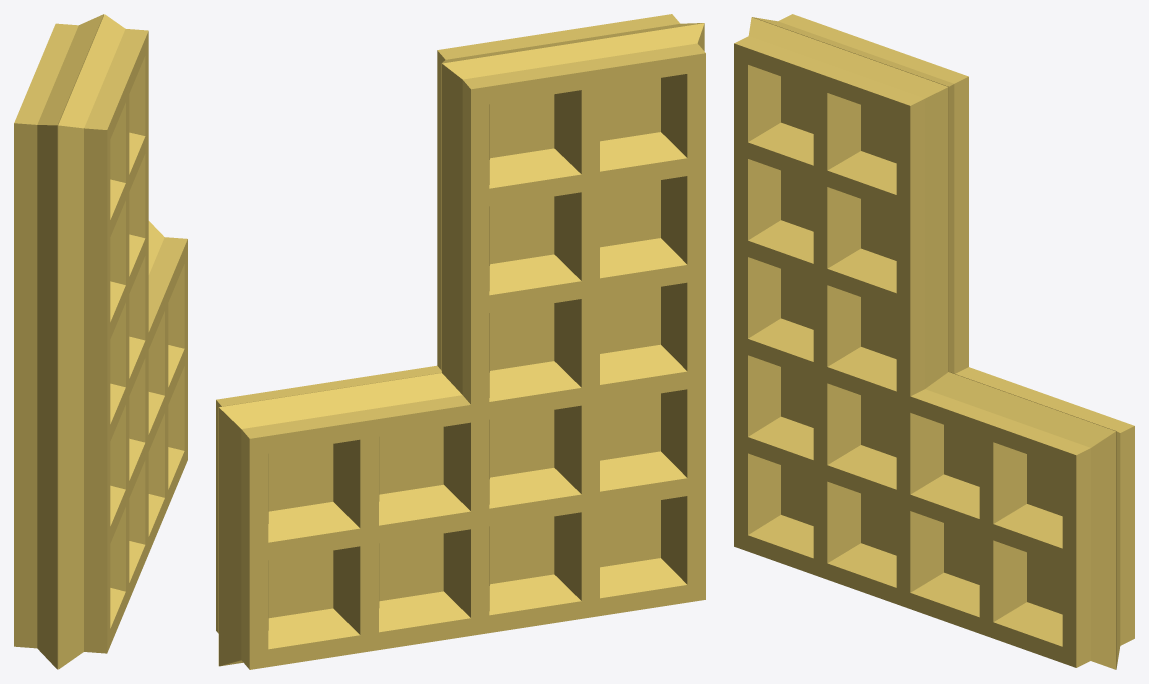
File: waffle.dae
The picture shows the model from 3 angles, left to right: view 1: azimuth 30°, elevation 25°; view 2: azimuth 150°, elevation 25°; view 3: azimuth 270°, elevation 25°; orthographic projection. The views are drawn at different scales.
Visible parts, largest first — view 1: Plane; view 2: Plane; view 3: Plane.
Boxes of the visible parts, x1,y1,x2,y2 form: Plane: [14, 14, 187, 669]; Plane: [216, 14, 705, 669]; Plane: [734, 14, 1134, 669].
Bounding box in the file's own units: 1.1 × 1.24 × 1.78.
